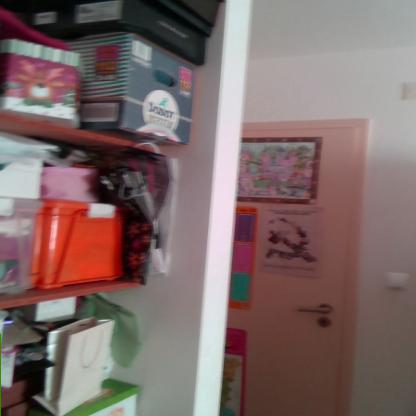door: (235, 128, 350, 416)
lever: (292, 306, 336, 316)
